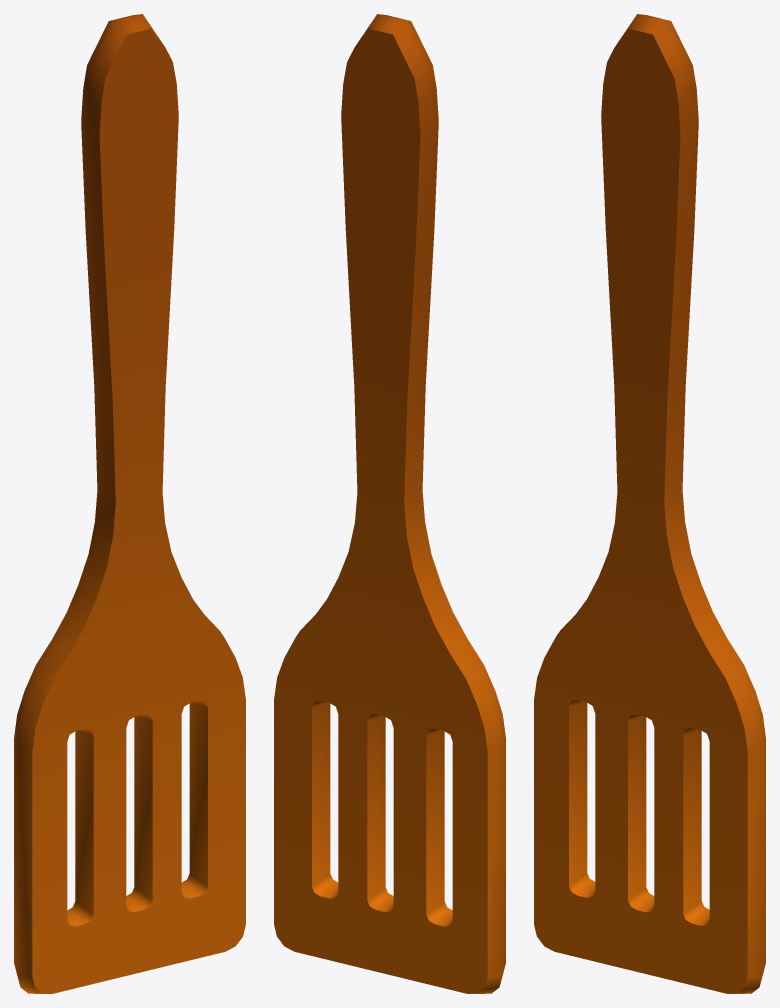
Rendered from Kitchen_spatula_01.fbx.
3 renders of one model, left to right at view 1: azimuth 30°, elevation 25°; view 2: azimuth 150°, elevation 25°; view 3: azimuth 330°, elevation 25°, orthographic.
Visible parts, largest first — view 1: Kitchen_spatula_01; view 2: Kitchen_spatula_01; view 3: Kitchen_spatula_01.
Boxes of the visible parts, <box> form: Kitchen_spatula_01: <box>14,14,245,993</box>; Kitchen_spatula_01: <box>274,14,505,993</box>; Kitchen_spatula_01: <box>534,14,765,993</box>.
Size of the model in its own units: 30.09 by 4.26 by 122.
